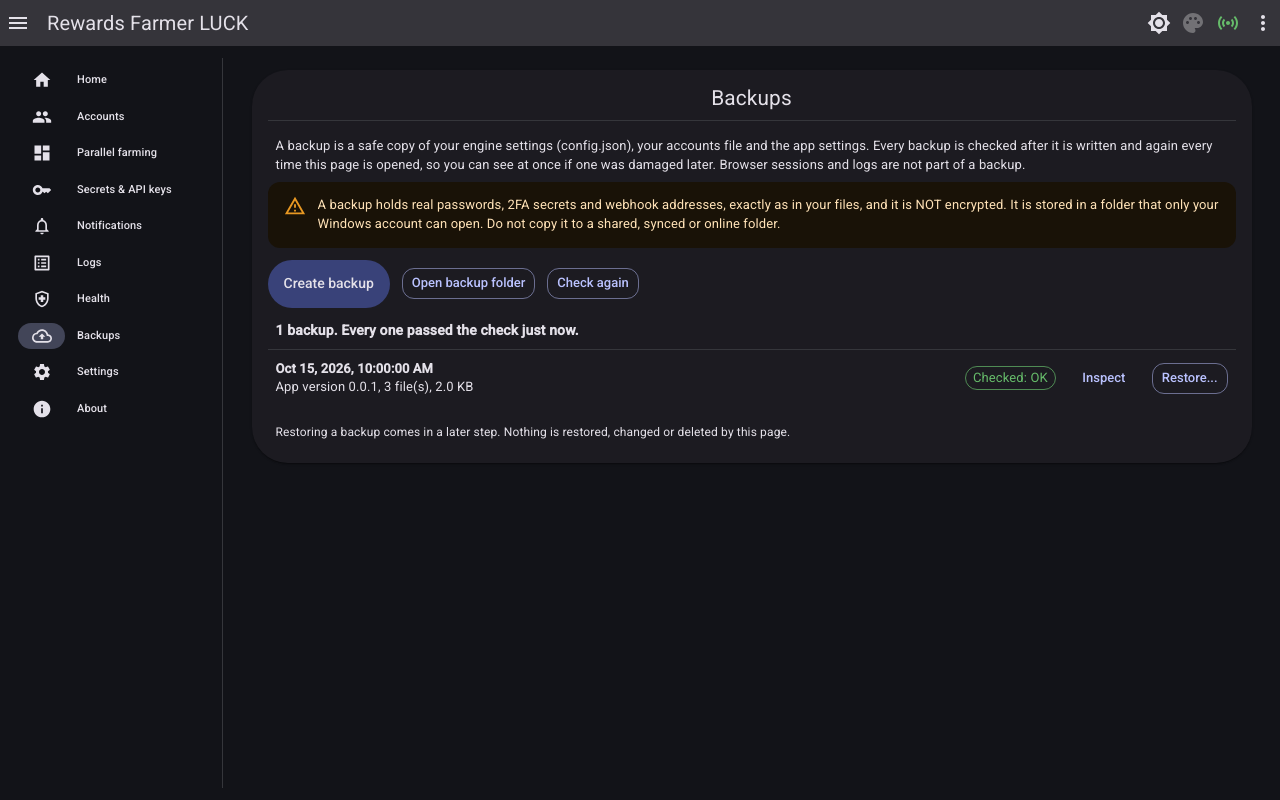
Test: Restore window (stand-in bridge) › a blocked restore still shows the plan, lists the blockers and cannot make the safety copy
Click the button with aria-label "Restore backup from" at coordinates (1190, 378), box x1=1152 y1=363 x2=1228 y2=394
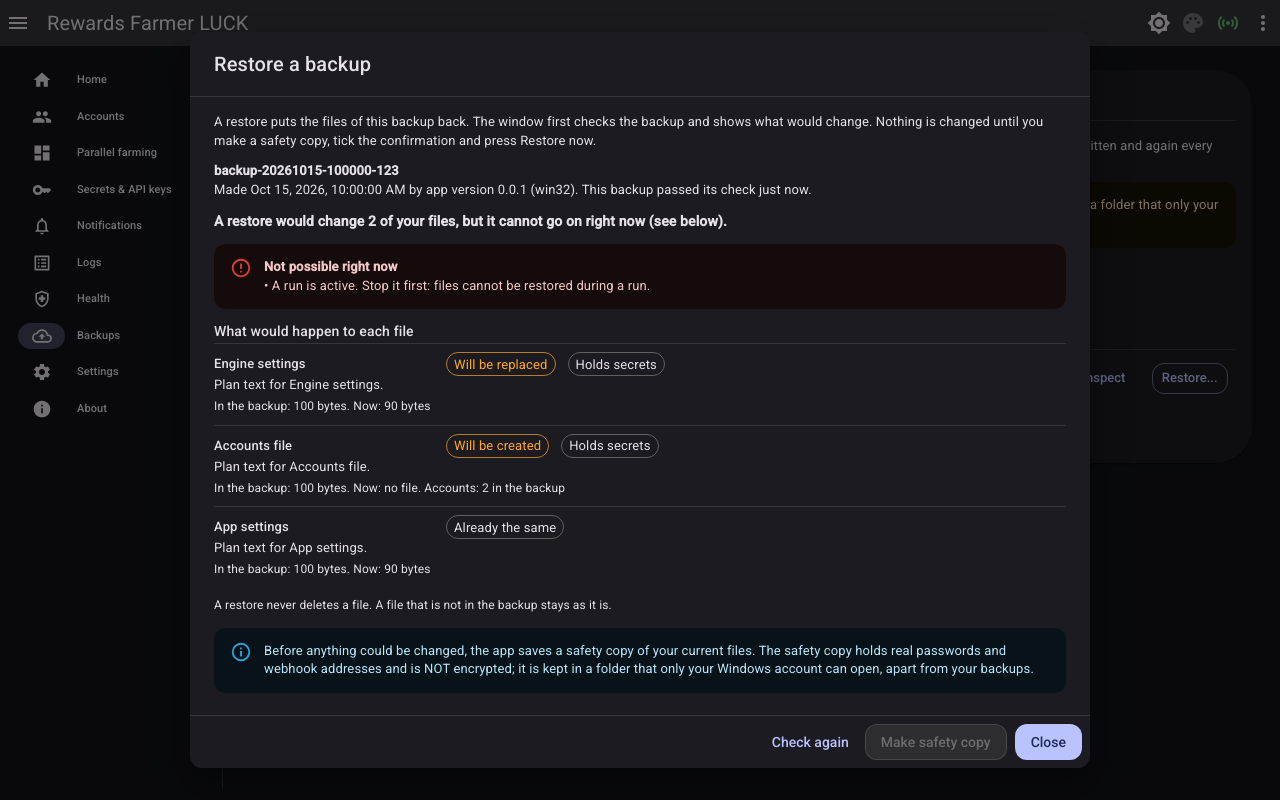
Expected: the message with test id "restore-blockers" shows "A run is active", x1=264 y1=278 x2=650 y2=293
Expected: the message with test id "restore-summary" shows "cannot go on right now", x1=214 y1=213 x2=727 y2=229
Expected: the button "Make safety copy" is disabled, x1=865 y1=724 x2=1007 y2=760
